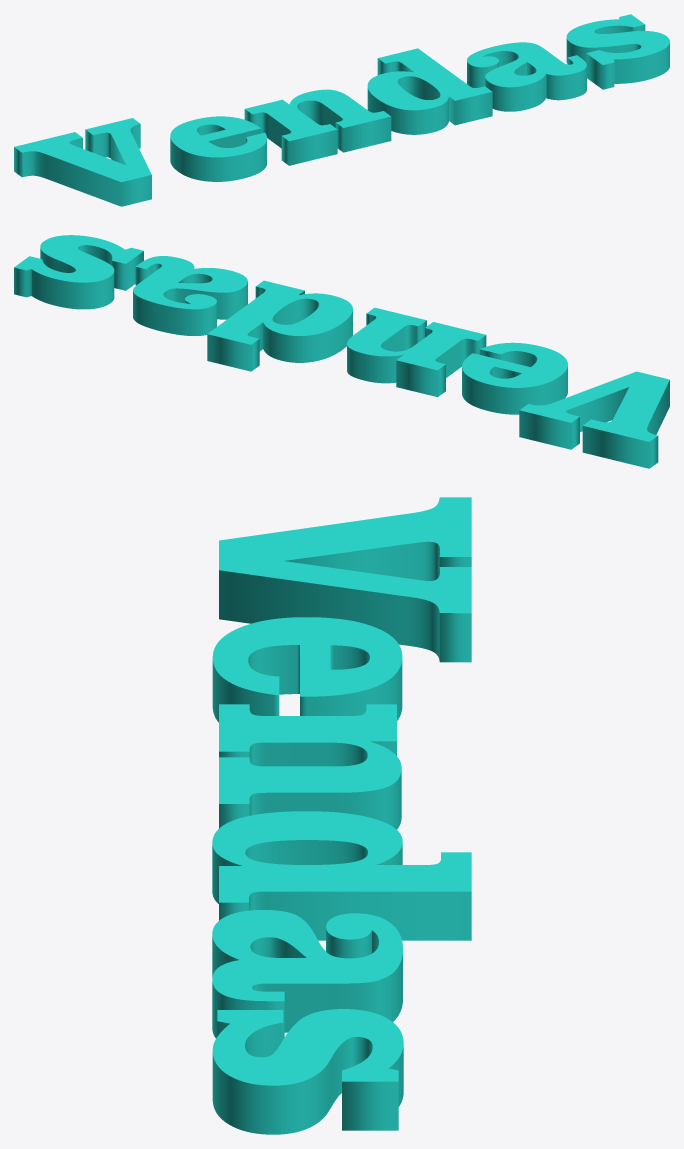
File: BendageTxt.fbx
3 views of the same model, one above another, from view 1: azimuth 30°, elevation 25°; view 2: azimuth 150°, elevation 25°; view 3: azimuth 270°, elevation 25° (orthographic). The views are drawn at different scales.
Visible parts, largest first — view 1: Text; view 2: Text; view 3: Text.
Boxes of the visible parts, bbox=[...] form: Text: bbox=[14, 14, 669, 206]; Text: bbox=[14, 235, 669, 468]; Text: bbox=[212, 497, 471, 1134].
Bounding box in the file's own units: 363 × 14.12 × 67.62.
